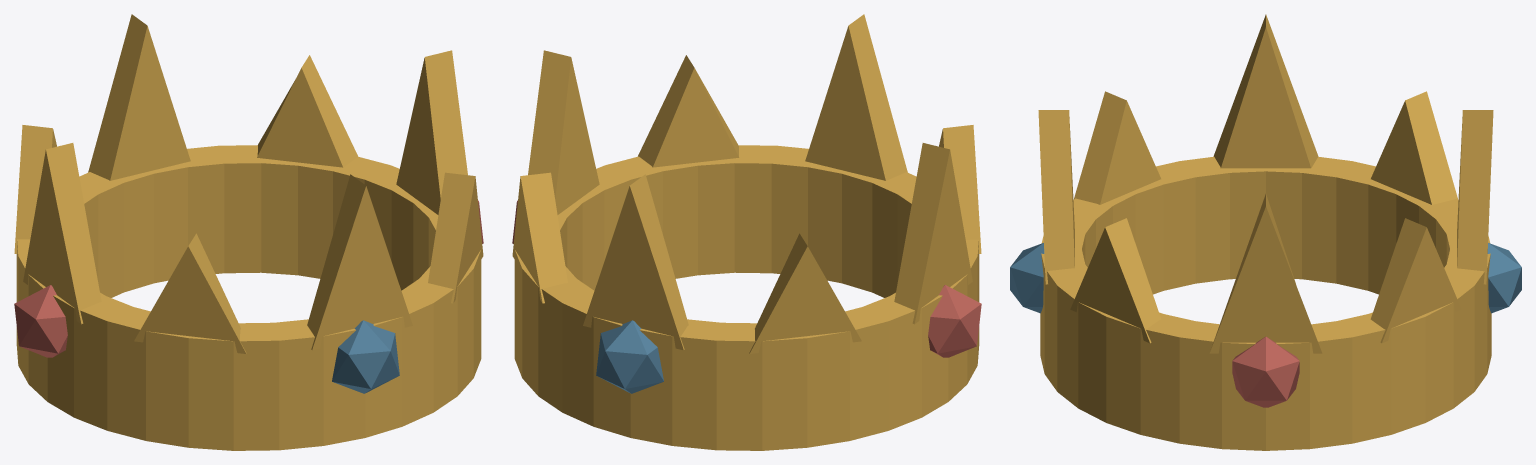
Rendered from regalia_king_crown.glb.
3 views of the same model, side by side, from view 1: azimuth 30°, elevation 25°; view 2: azimuth 150°, elevation 25°; view 3: azimuth 270°, elevation 25° (orthographic). The views are drawn at different scales.
Visible parts, largest first — view 1: regalia_king_crown; view 2: regalia_king_crown; view 3: regalia_king_crown.
Part boxes in pixels (box(x1,y1,x2,y2)): regalia_king_crown: box(14, 14, 483, 450); regalia_king_crown: box(512, 14, 981, 450); regalia_king_crown: box(1010, 14, 1521, 450).
Size of the model in its own units: 0.2854 by 0.15 by 0.2834.
